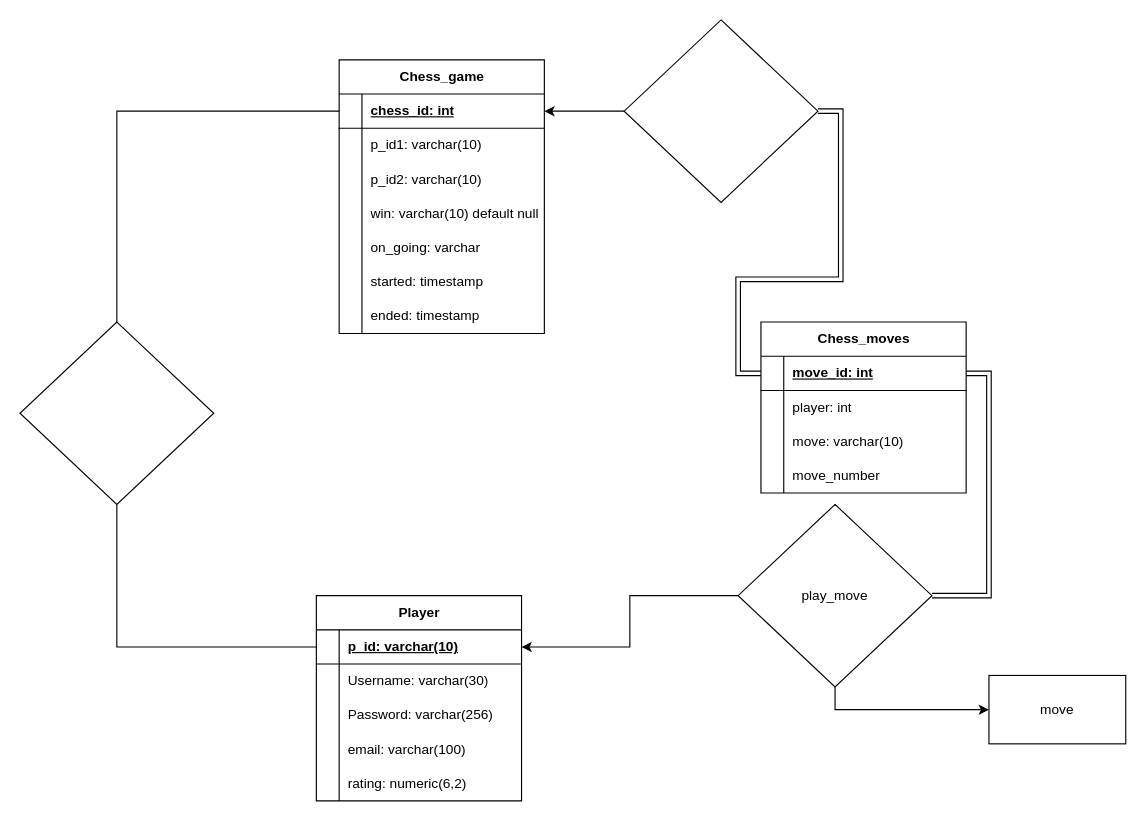
Image size: 1146x821. Some labels were removed from this diagram. The shapes that lost their labels are listed below. From the top down, each one's centre as x and y in pixels, then its label:
At pixel 720 110: "chessgame_moves".
At pixel 116 412: "plays".
